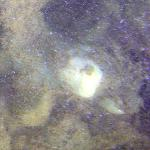dead: (1, 17, 144, 143)
